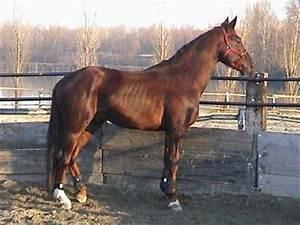horse: (45, 14, 253, 212)
